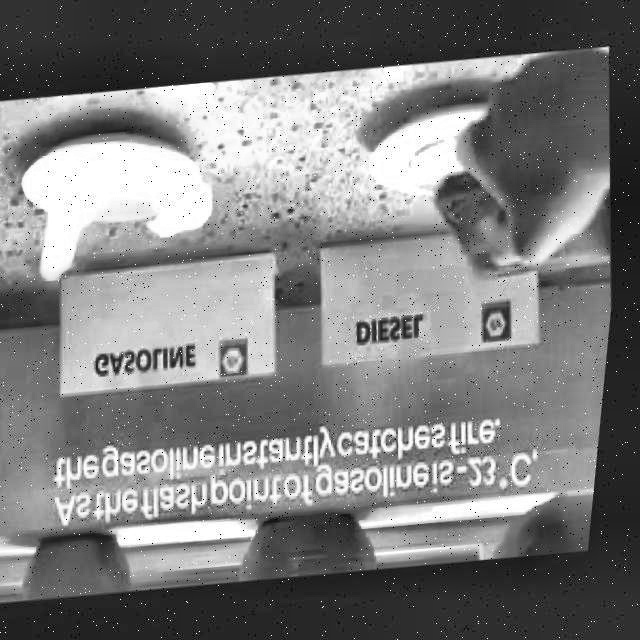Fire: (26, 130, 224, 289)
